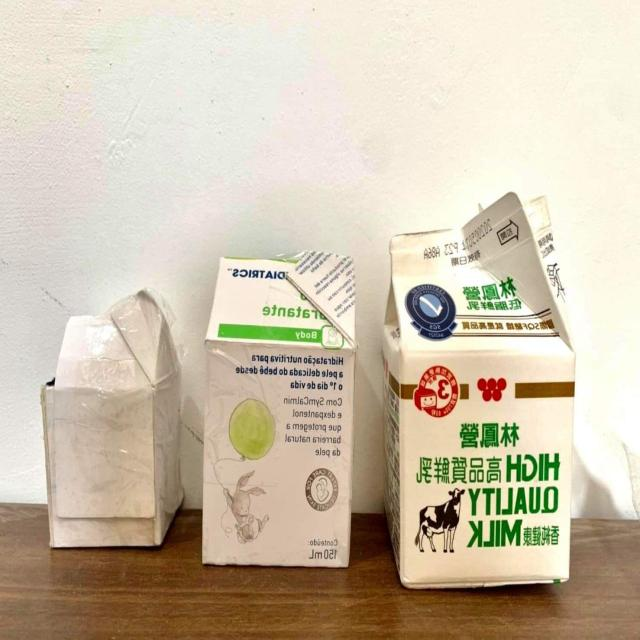cardboard: (384, 191, 573, 588), (198, 251, 355, 569), (36, 298, 177, 552)
